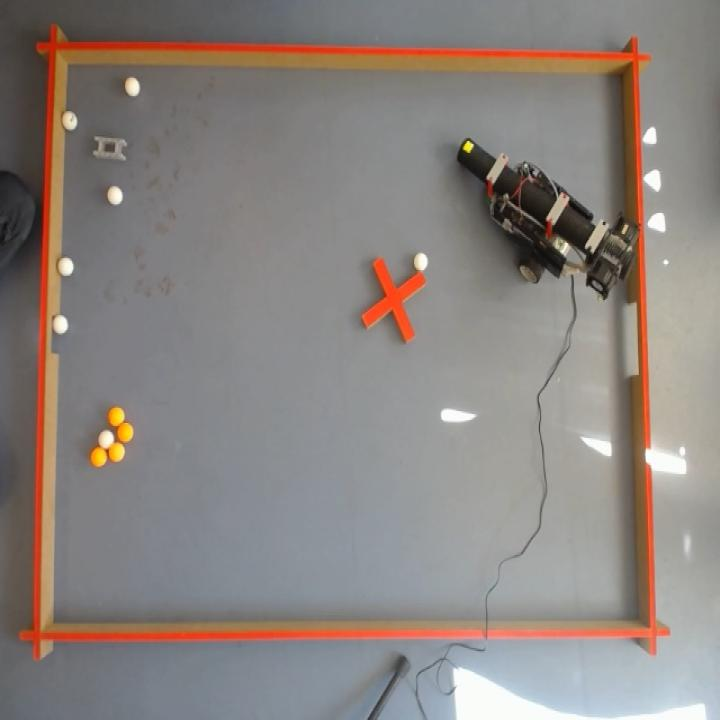orange: (108, 407, 124, 427), (118, 423, 134, 443), (91, 447, 106, 467), (109, 443, 124, 462)
robot: (457, 138, 639, 302)
robot-front: (458, 139, 492, 181)
white: (104, 184, 126, 209), (122, 75, 142, 102), (56, 255, 77, 279), (61, 109, 80, 135), (412, 250, 430, 274), (52, 314, 70, 336), (99, 430, 114, 449)
